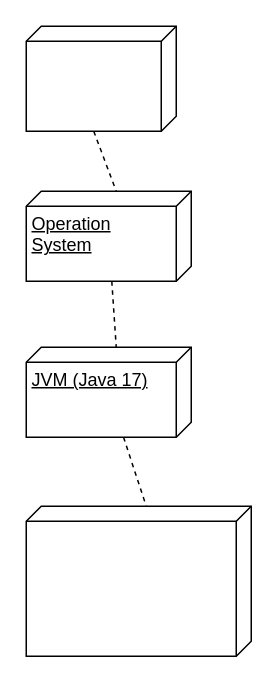
Some shapes in this 278 by 683 pixel diagram are drawn without their labels. Each missing label, with the box of its shape:
Bouncing Ball Application: (25, 505, 251, 656)
End-User Workstation: (25, 25, 176, 131)
